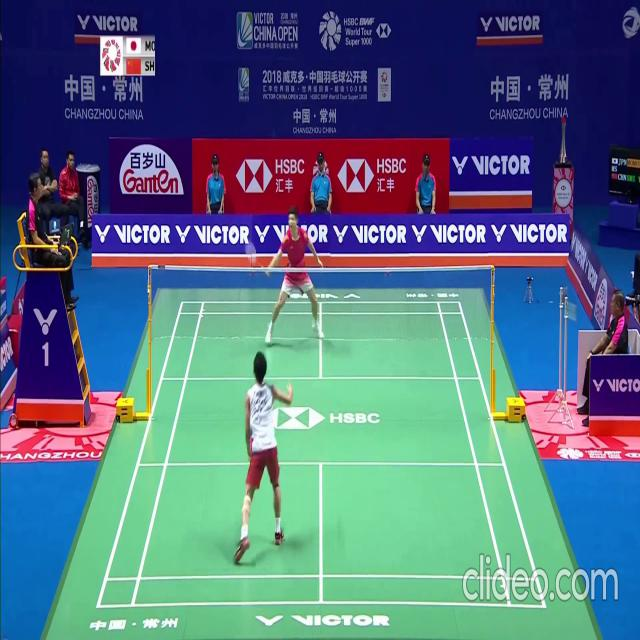Shuttlecock: (231, 227, 236, 235)
